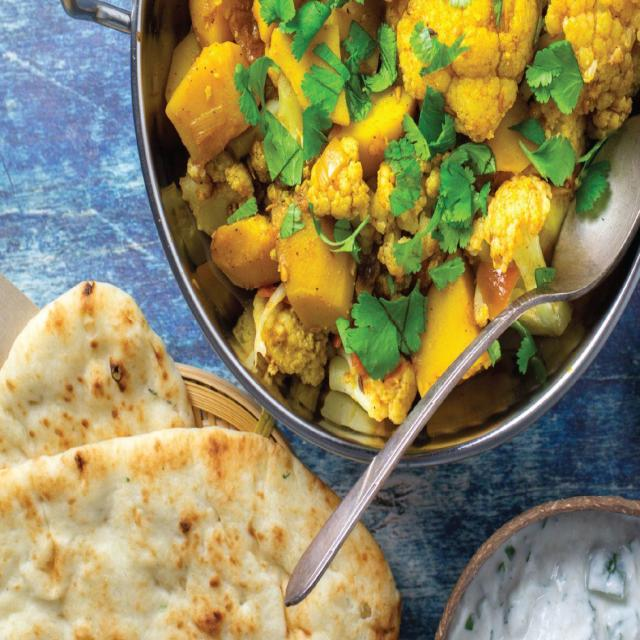aloo_gobi: (176, 0, 636, 397)
naan: (0, 283, 400, 639)
